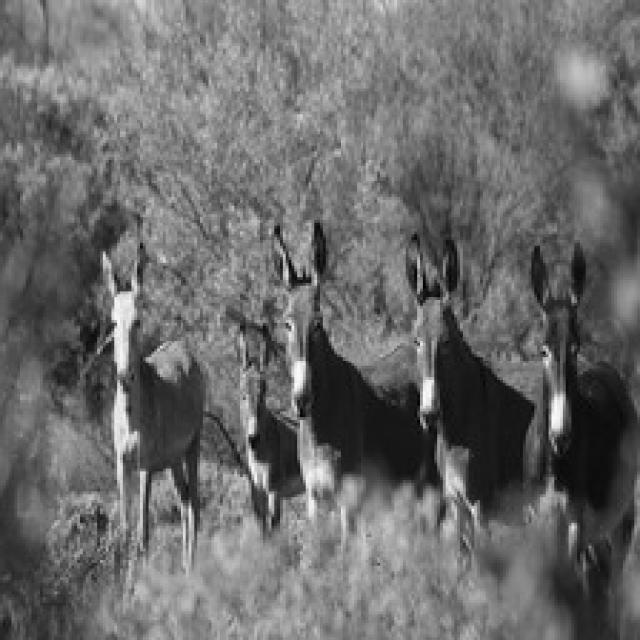Donkey: (403, 228, 540, 568), (526, 240, 637, 637), (269, 217, 380, 566), (97, 240, 206, 586), (231, 317, 306, 540), (354, 340, 429, 506)
